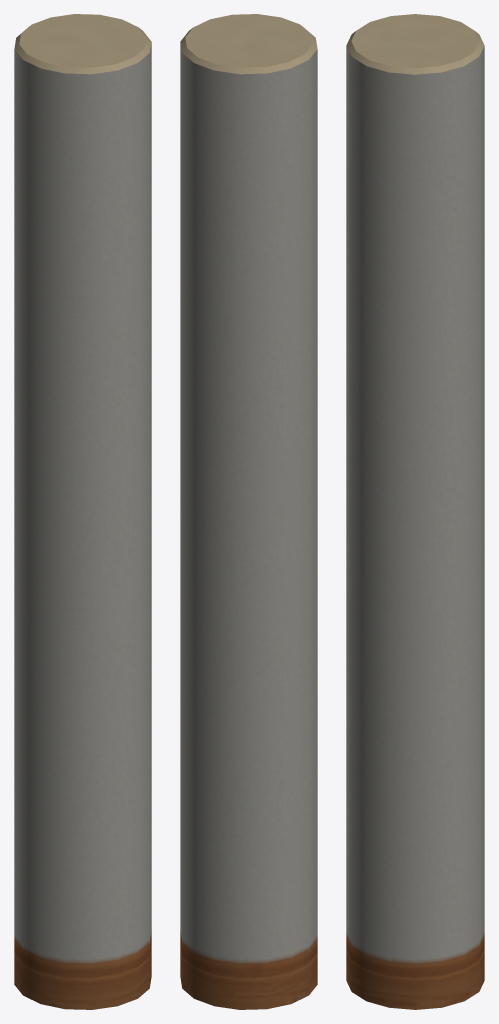
The model's file is column4_2.fbx.
The picture shows the model from 3 angles, left to right: view 1: azimuth 30°, elevation 25°; view 2: azimuth 150°, elevation 25°; view 3: azimuth 270°, elevation 25°; orthographic projection.
Visible parts, largest first — view 1: column4_b; view 2: column4_b; view 3: column4_b.
Part boxes in pixels (box(x1,y1,x2,y2)): column4_b: box(14, 14, 151, 1009); column4_b: box(180, 14, 317, 1009); column4_b: box(346, 14, 484, 1009).
Size of the model in its own units: 80 by 600 by 80.
